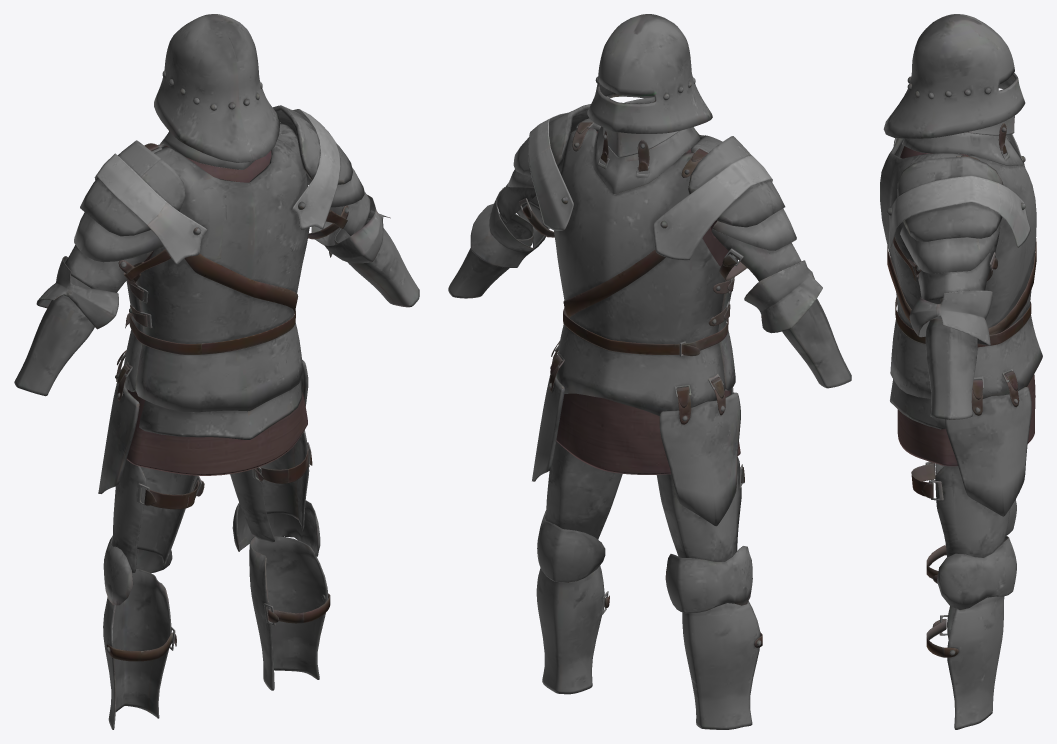
Rendered from w_suit.glb.
The picture shows the model from 3 angles, left to right: view 1: azimuth 30°, elevation 25°; view 2: azimuth 150°, elevation 25°; view 3: azimuth 270°, elevation 25°; orthographic projection. The views are drawn at different scales.
Parts seen in each view (by area): view 1: Cuirass_Back, LowerLegArmor, Helmet, UpperLegArmor, Cylinder.006, ArmFasteners, ShowldersArm, ArmArmor_0, Plane.007, ElbowsAr, KneesArmor, ArmArmor_1 (+9 smaller); view 2: Cuirass_front, LowerLegArmor, Helmet, HipsArmor, UpperLegArmor, ArmFasteners, KneesArmor, Cylinder.006, ElbowsAr, ShowldersArm, ArmArmor_0, NeckArmor_1 (+8 smaller); view 3: Helmet, Cuirass_front, HipsArmor, LowerLegArmor, Cuirass_Back, ArmArmor_0, ArmFasteners, ShowldersArm, UpperLegArmor, KneesArmor, ElbowsAr, ArmArmor_1 (+10 smaller).
Part boxes in pixels (x1,y1,x2,y2): Cuirass_Back: (135, 123, 309, 412); LowerLegArmor: (103, 536, 328, 729); Helmet: (154, 14, 280, 162); UpperLegArmor: (112, 430, 309, 572); Cylinder.006: (126, 145, 307, 475); ArmFasteners: (94, 109, 340, 264); ShowldersArm: (14, 218, 419, 396); ArmArmor_0: (80, 105, 352, 236); Plane.007: (139, 378, 302, 439); ElbowsAr: (36, 194, 390, 329); KneesArmor: (103, 500, 320, 605); ArmArmor_1: (74, 167, 364, 262); Cuirass_front: (554, 128, 725, 415); LowerLegArmor: (536, 565, 760, 729); Helmet: (587, 14, 712, 133); HipsArmor: (532, 374, 740, 526); UpperLegArmor: (546, 441, 741, 561); ArmFasteners: (528, 112, 772, 260); KneesArmor: (537, 510, 752, 613); Cylinder.006: (556, 131, 740, 474); ElbowsAr: (470, 187, 822, 333); ShowldersArm: (448, 213, 851, 388); ArmArmor_0: (513, 104, 785, 227); NeckArmor_1: (593, 97, 700, 194); Helmet: (883, 14, 1025, 138); Cuirass_front: (968, 154, 1042, 398); HipsArmor: (945, 387, 1031, 516); LowerLegArmor: (947, 596, 1004, 729); Cuirass_Back: (880, 138, 963, 398); ArmArmor_0: (897, 156, 1003, 241); ArmFasteners: (889, 134, 1030, 248); ShowldersArm: (925, 318, 977, 419); UpperLegArmor: (935, 463, 1010, 557); KneesArmor: (937, 499, 1016, 609); ElbowsAr: (909, 290, 992, 345); ArmArmor_1: (900, 225, 1000, 273).
Bounding box in the file's own units: 992 × 1621 × 360.
Materials: 1 (1 with a texture image).
